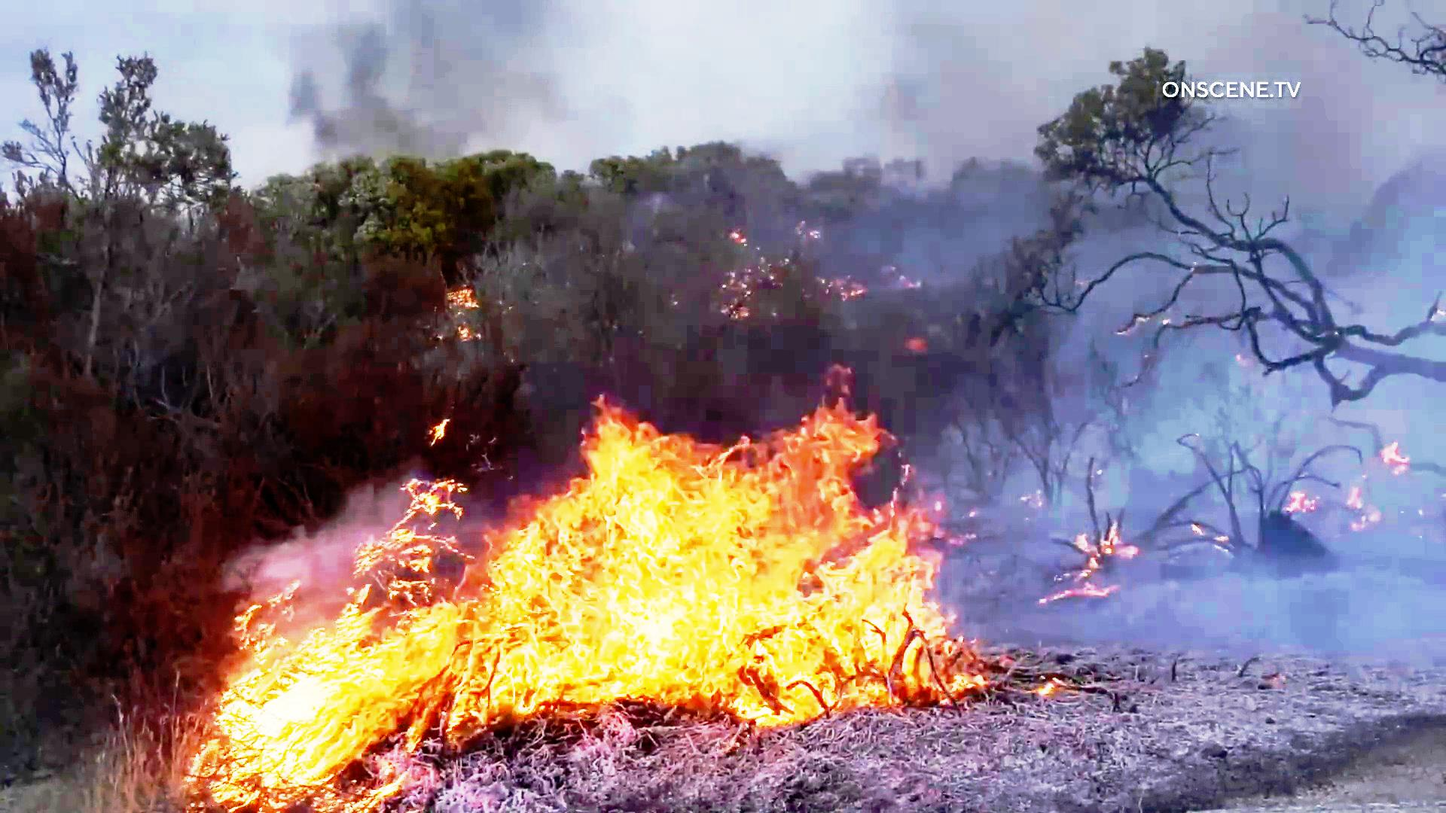fire: (304, 416, 998, 735)
